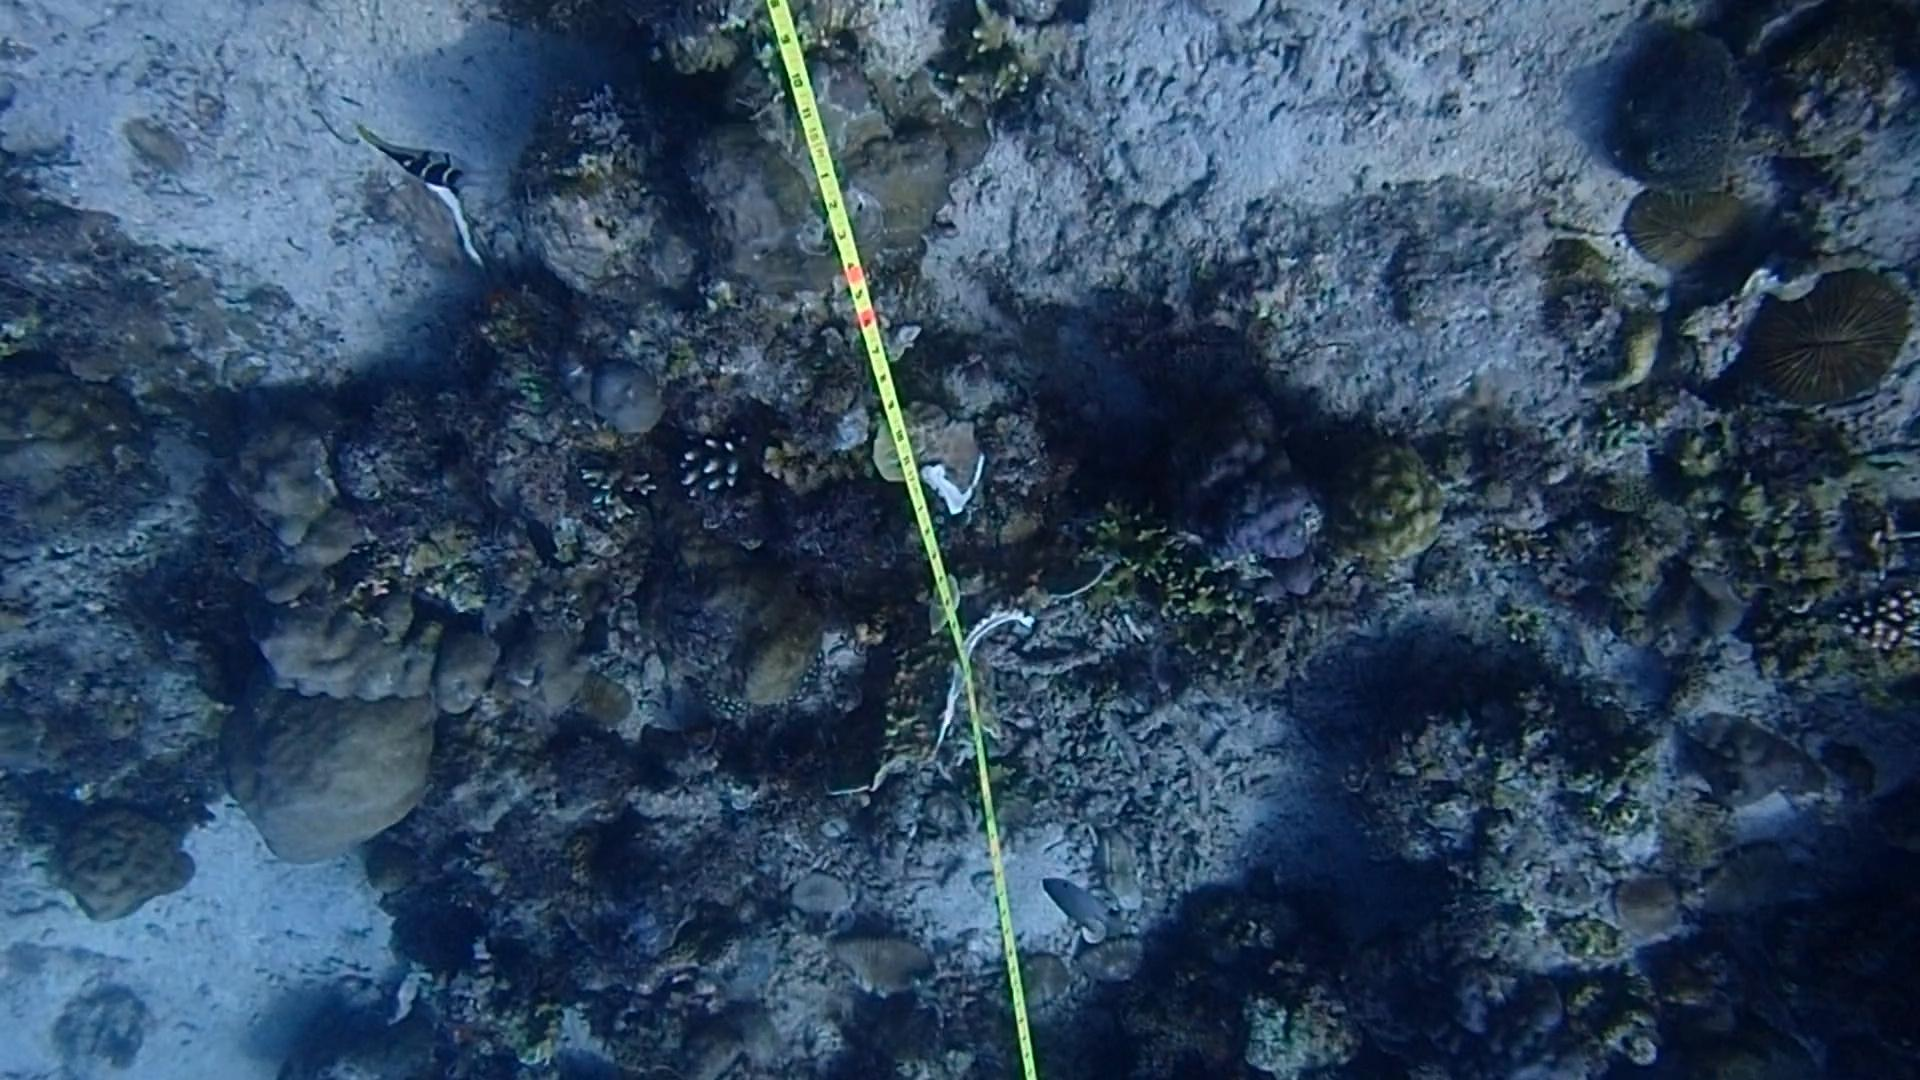Striped Fish: (348, 115, 497, 210)
